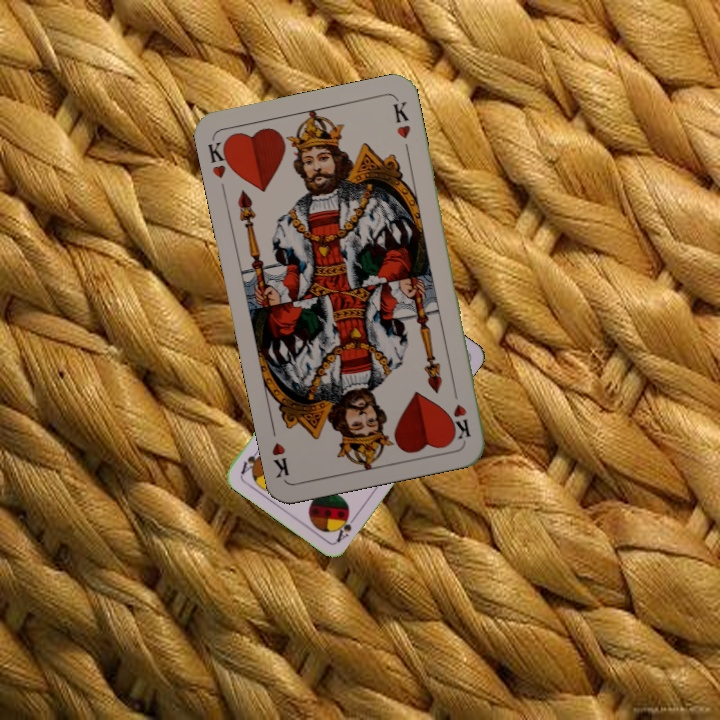HK: (203, 135, 236, 181), (449, 382, 473, 442)
SA: (332, 509, 361, 545)
